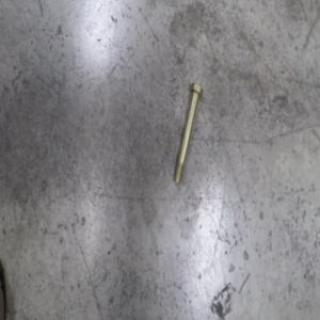Bolttrack_idkeyframe: (171, 82, 202, 188)
